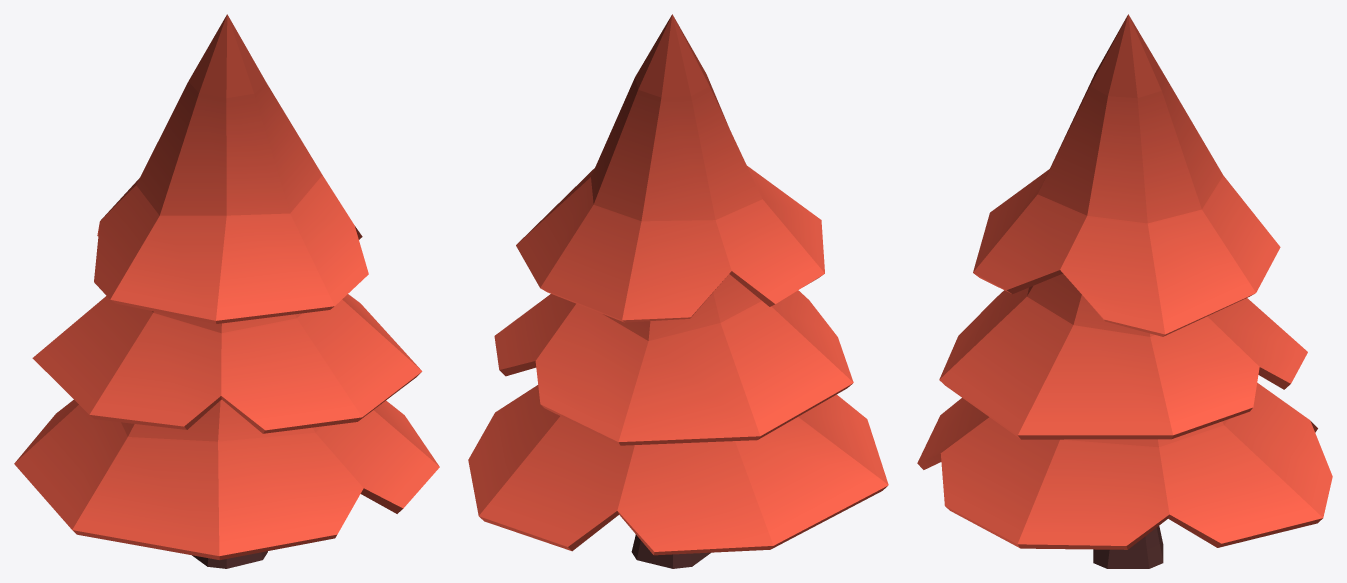
File: RedPine1.fbx
3 views of the same model, side by side, from view 1: azimuth 30°, elevation 25°; view 2: azimuth 150°, elevation 25°; view 3: azimuth 270°, elevation 25° (orthographic).
Visible parts, largest first — view 1: RedPine1; view 2: RedPine1; view 3: RedPine1.
Boxes of the visible parts, <box> form: RedPine1: <box>14,14,439,568</box>; RedPine1: <box>468,14,888,568</box>; RedPine1: <box>917,14,1332,568</box>.
Bounding box in the file's own units: 432 × 613 × 428.
